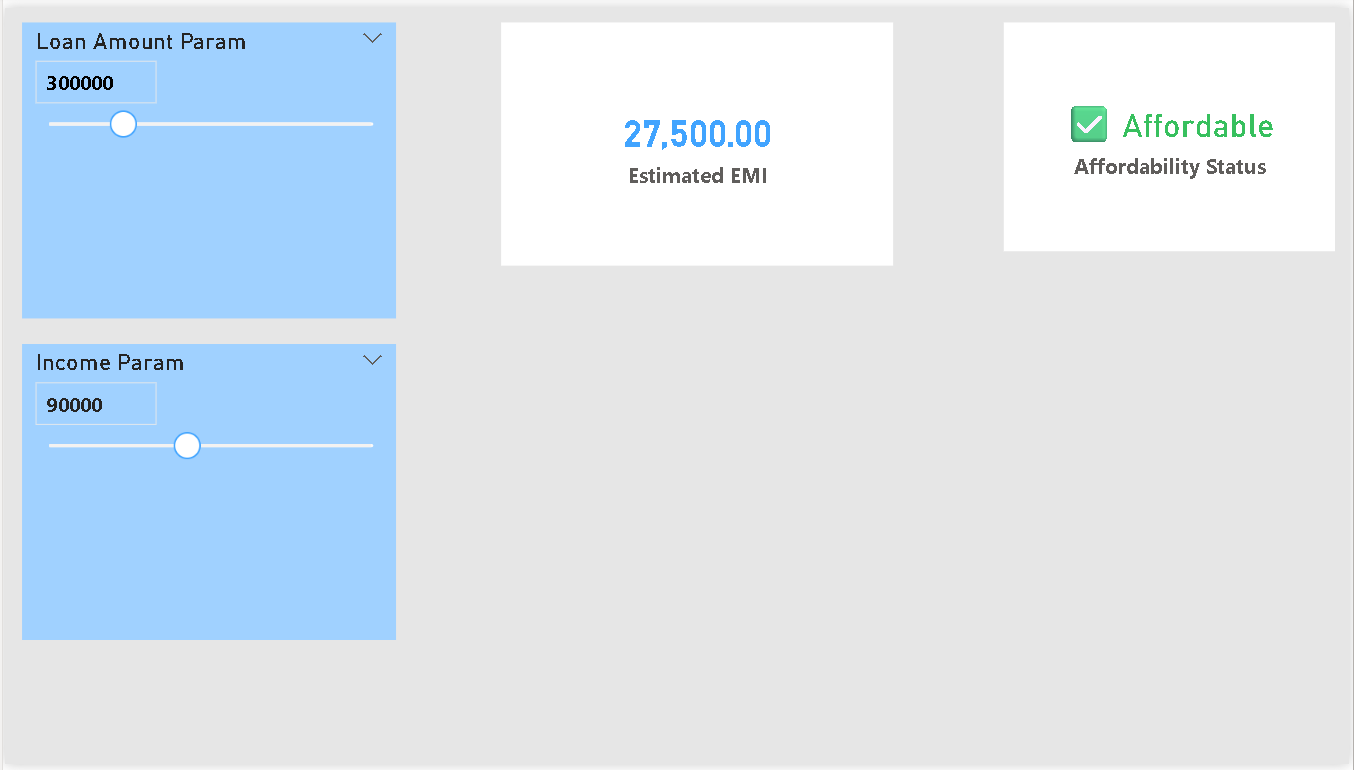

Layout of this report page (visuals, bound fields, positions):
{"tool":"powerbi","page":{"name":"Loan Affordability Calculator","canvas":[1280,720],"ordinal":3},"visuals":[{"type":"slicer","fields":{"Values":["Loan Amount Param.Loan Amount Param"]},"box":[16.7,14.2,355.5,280.8],"z":0},{"type":"slicer","fields":{"Values":["Income Param.Income Param"]},"box":[16.7,319.4,355.5,280.8],"z":1000},{"type":"card","fields":{"Values":["Banking_Data.EMI"]},"box":[472.7,14.2,373.5,231.8],"z":2000},{"type":"card","fields":{"Values":["Banking_Data.Affordability"]},"box":[951.8,14.2,315.6,217.7],"z":3000}]}

Visuals, with their boxes in screenshot pixels (x1, y1, x2, y2), scaled from the page's 1280x720 canvas onto the 1354x770 screenshot:
slicer - Loan Amount Param.Loan Amount Param: locate(18, 15, 394, 315)
slicer - Income Param.Income Param: locate(18, 342, 394, 642)
card - Banking_Data.EMI: locate(500, 15, 895, 263)
card - Banking_Data.Affordability: locate(1007, 15, 1341, 248)
